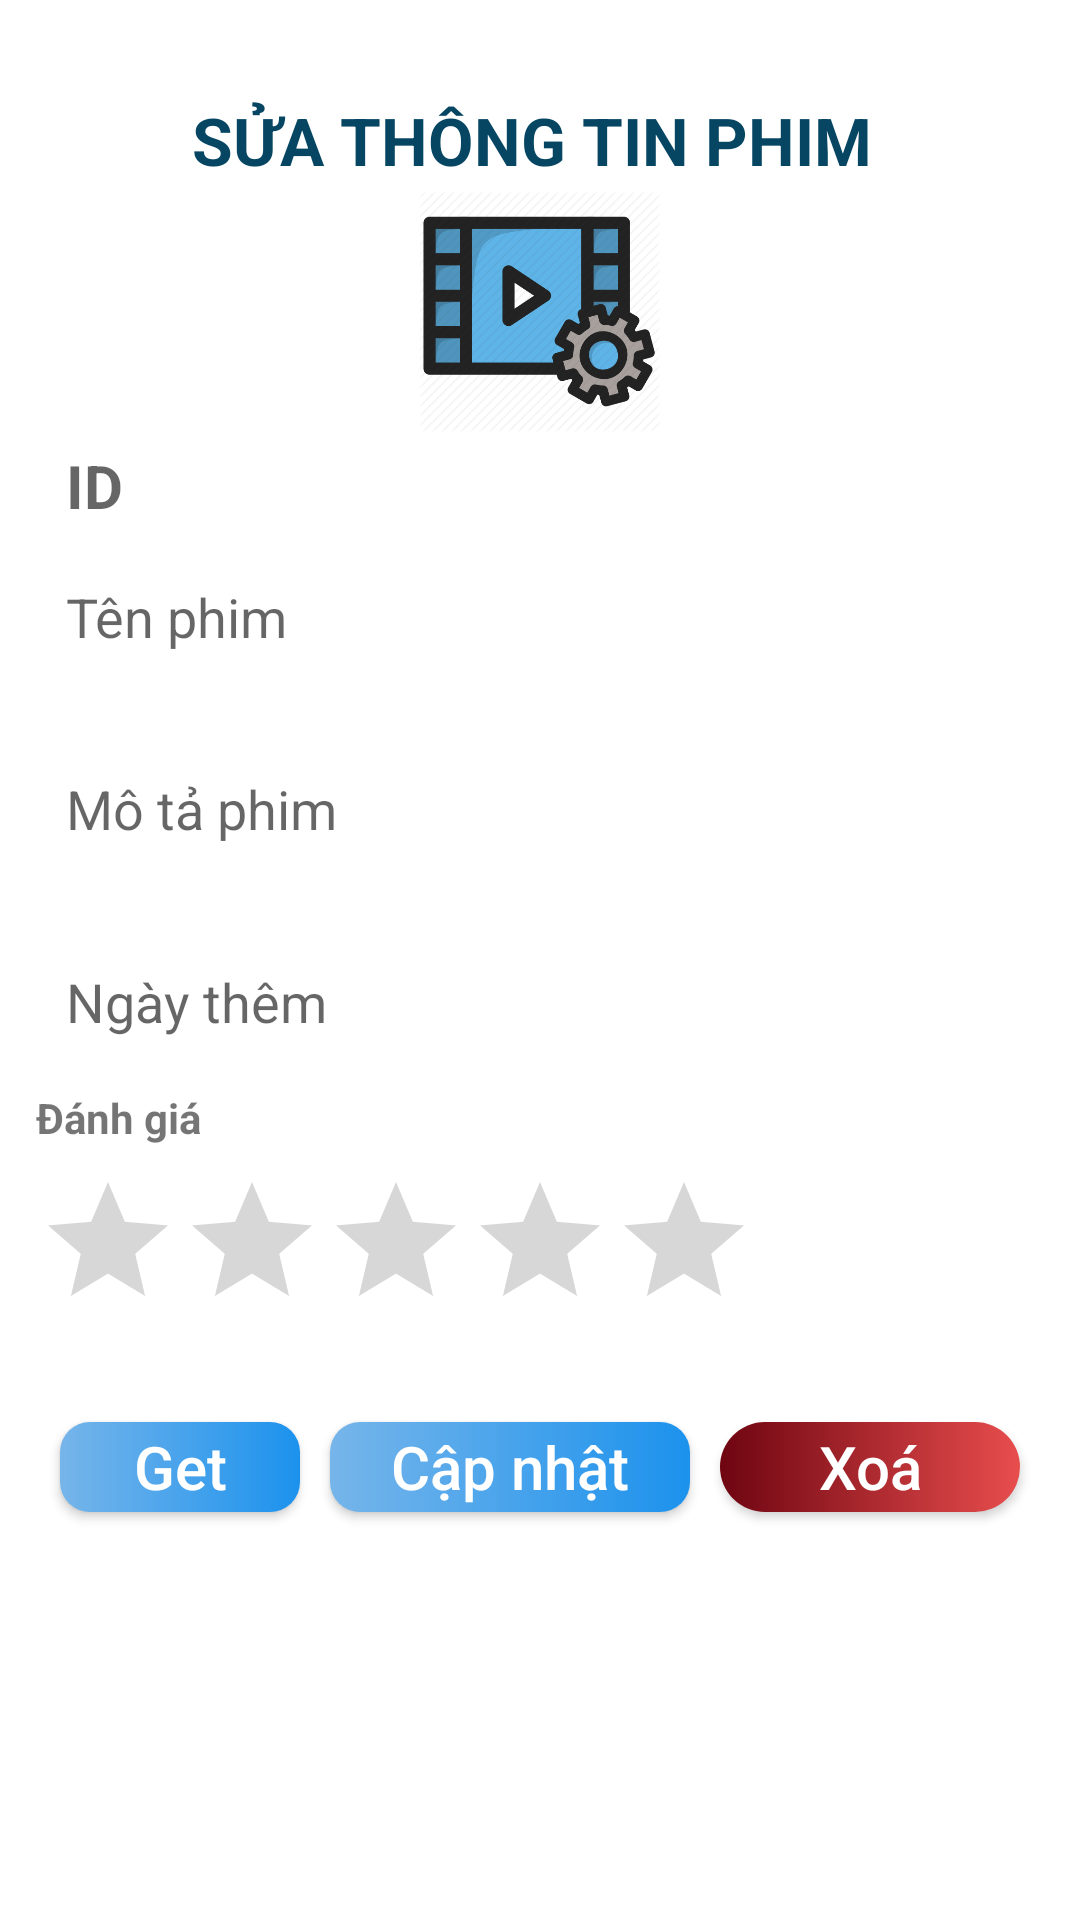

Screen size 1080 x 1920. Icon name, then its center in pixels as point (x, y):
moive edit: point (539, 311)
